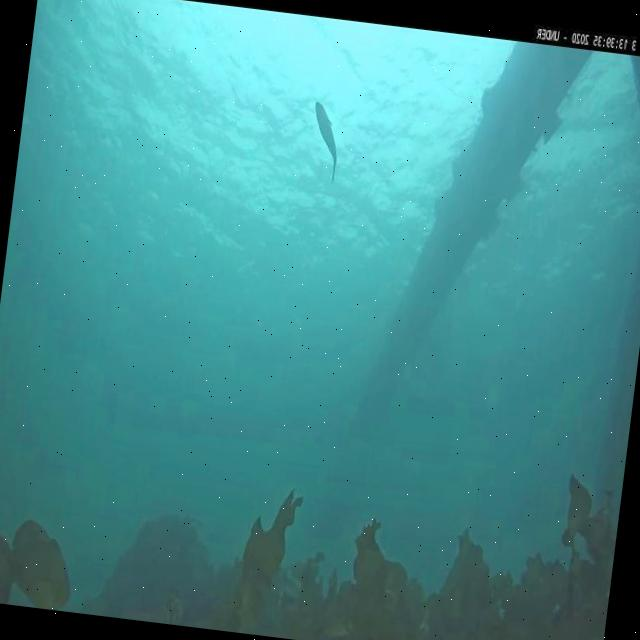fish: (306, 100, 344, 181)
